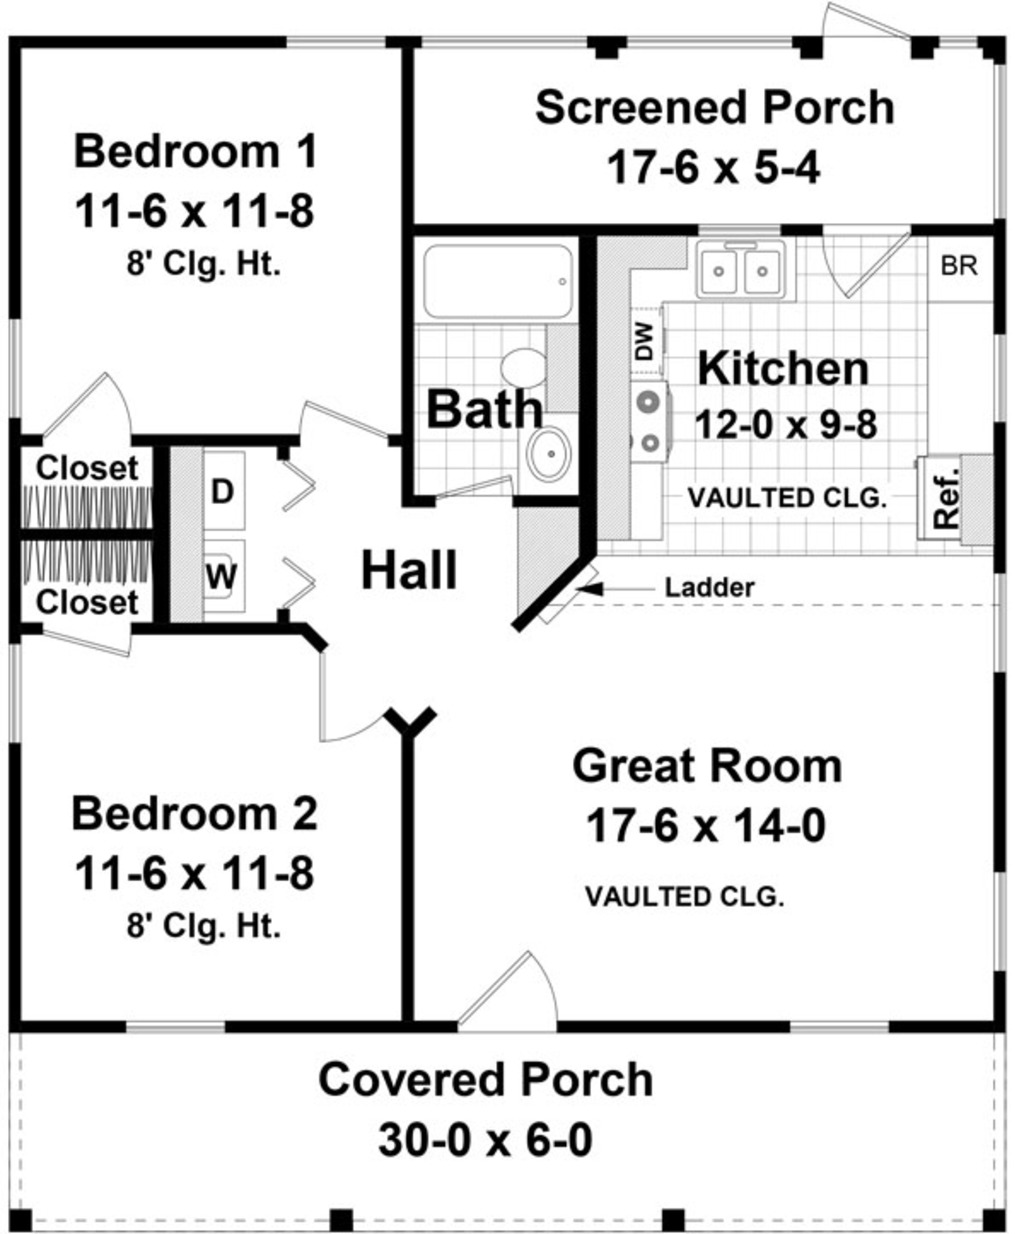door: (460, 951, 566, 1035), (312, 645, 391, 741), (818, 227, 914, 303), (41, 372, 137, 435), (37, 618, 134, 658), (289, 397, 384, 437), (818, 6, 905, 35), (437, 479, 516, 499)
kitchen_bar: (601, 309, 666, 554)
large_sink: (491, 329, 582, 416)
small_sink: (520, 422, 582, 497)
tub: (420, 235, 582, 331)
twin_sink: (680, 229, 801, 304)
window: (620, 37, 791, 51), (424, 35, 595, 49), (989, 328, 1010, 437), (124, 1020, 232, 1037), (3, 635, 19, 743), (291, 35, 385, 49)
